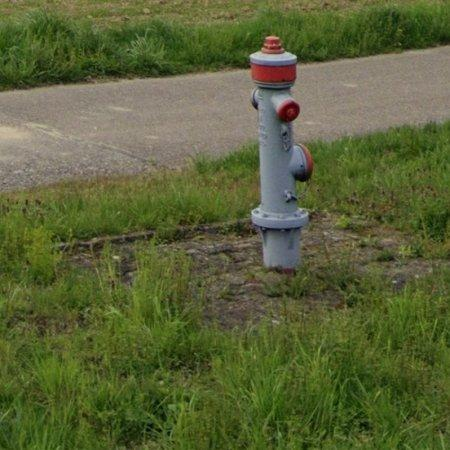a fire hydrant: (250, 36, 314, 270)
